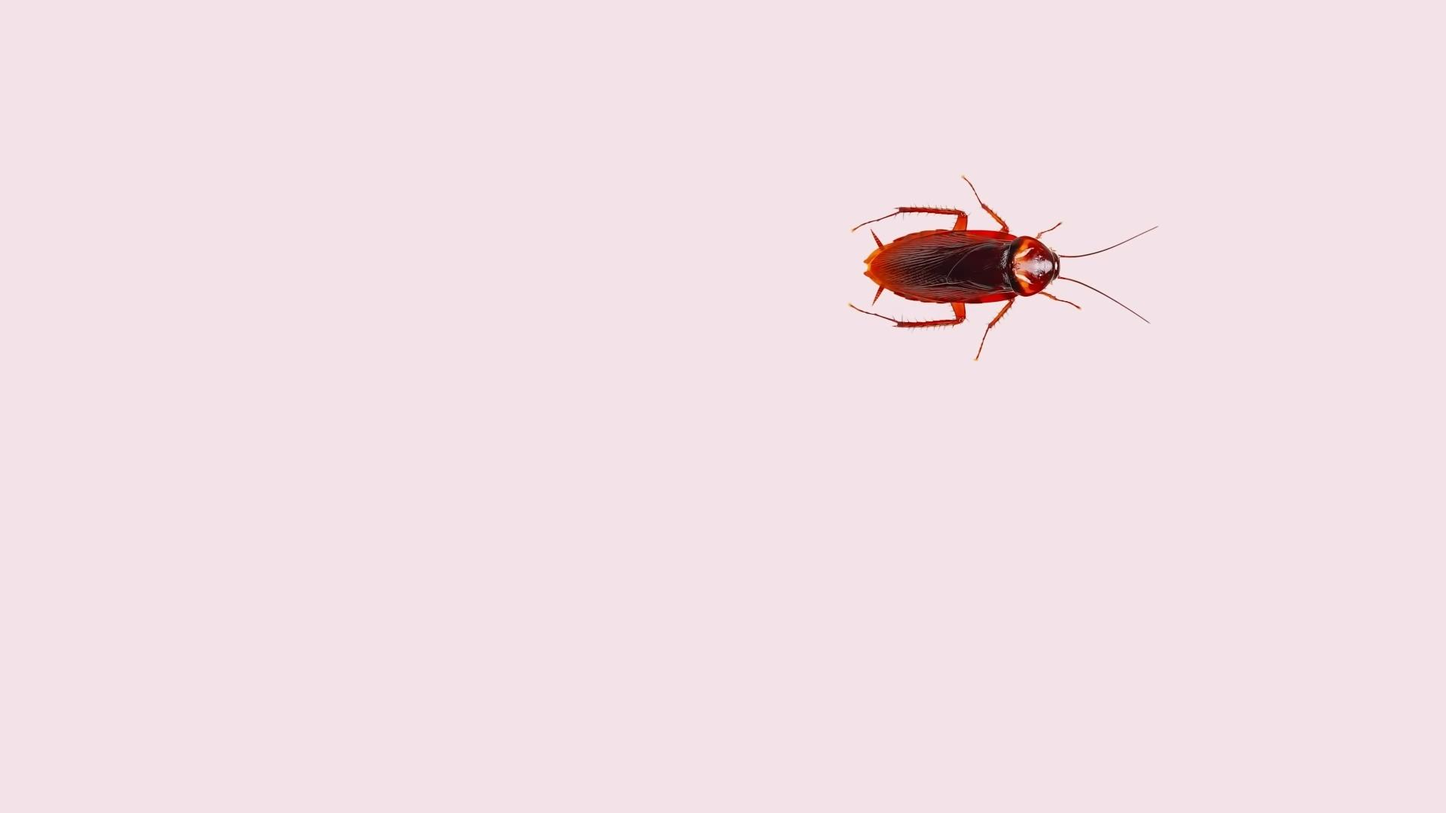cockroach: (853, 174, 1150, 346)
